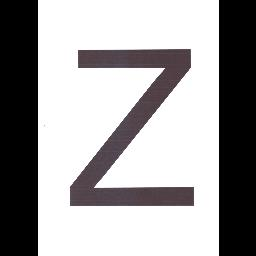z: (66, 40, 204, 214)
